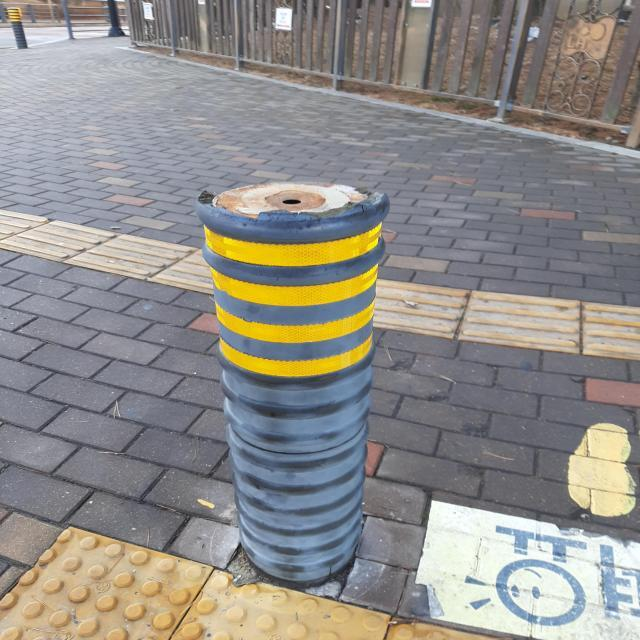pole: (191, 173, 392, 594)
